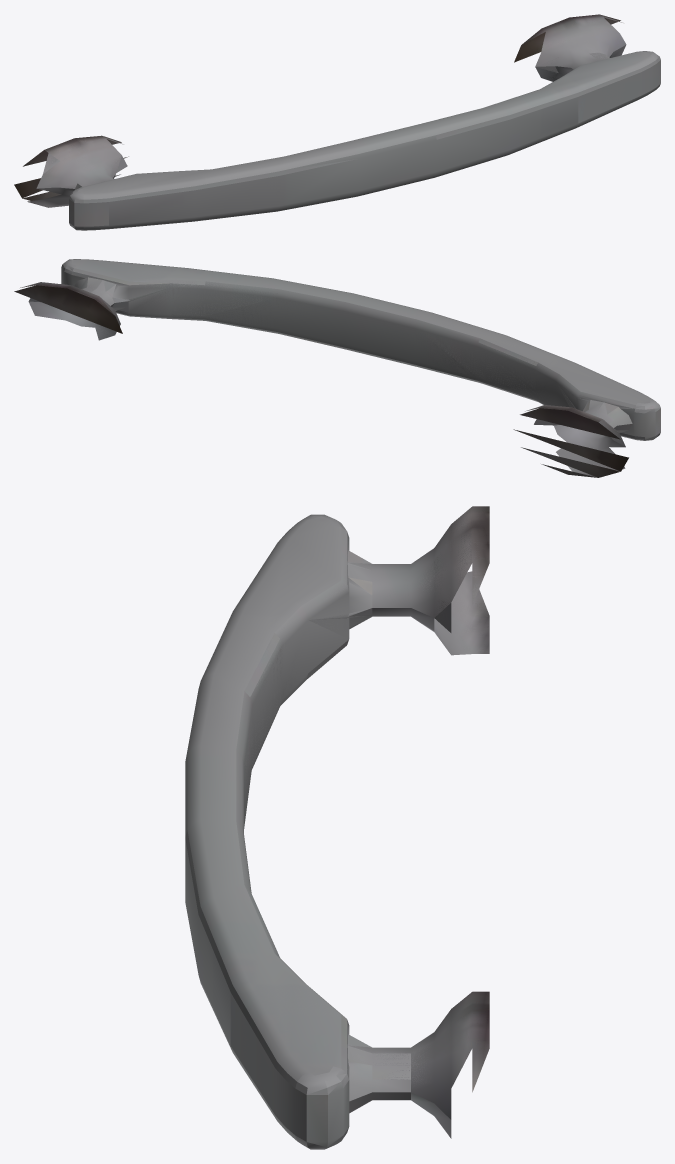
File: link_2__handle-129.glb
3 views of the same model, one above another, from view 1: azimuth 30°, elevation 25°; view 2: azimuth 150°, elevation 25°; view 3: azimuth 270°, elevation 25° (orthographic). The views are drawn at different scales.
Visible parts, largest first — view 1: world; view 2: world; view 3: world.
Part boxes in pixels (box(x1,y1,x2,y2)): world: box(14, 14, 660, 230); world: box(14, 259, 660, 477); world: box(185, 506, 489, 1149).
Size of the model in its own units: 0.0975 by 0.00972 by 0.0212.
Materials: 1 (1 with a texture image).
